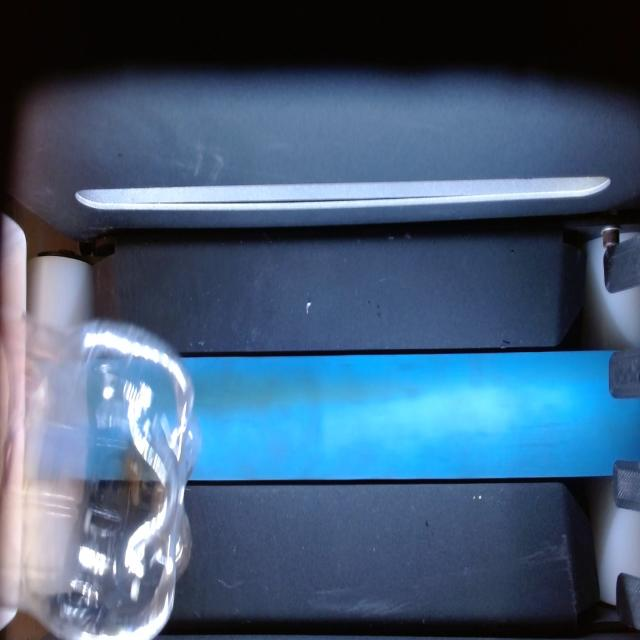bottle: (0, 318, 198, 638)
